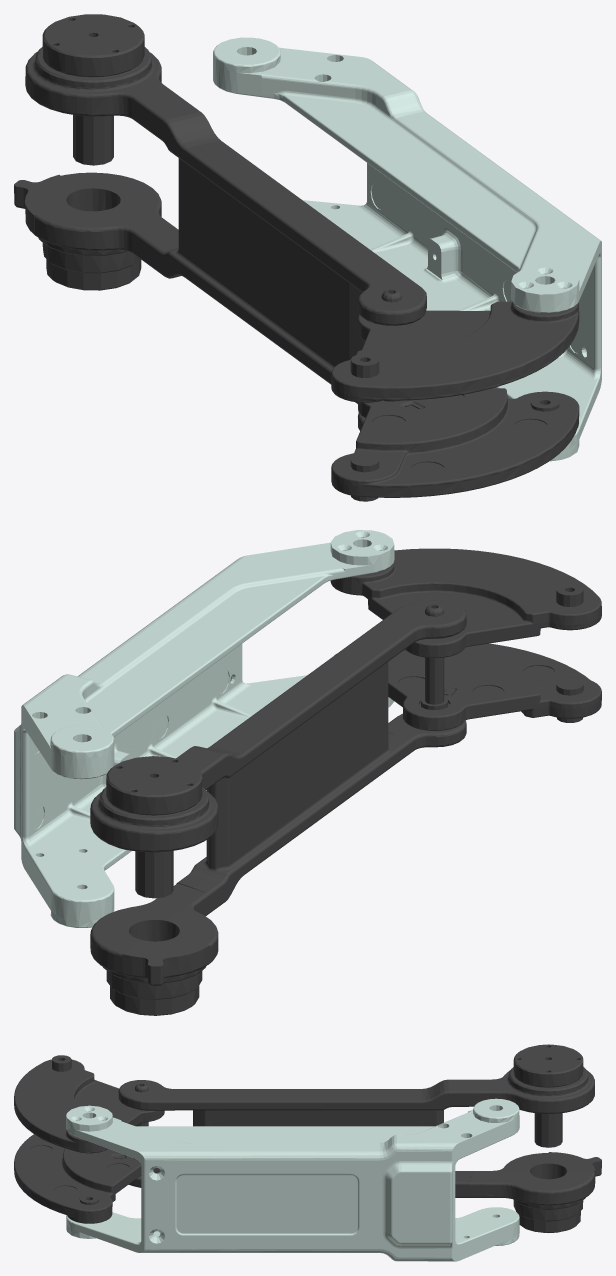
3 views of the same model, one above another, from view 1: azimuth 30°, elevation 25°; view 2: azimuth 150°, elevation 25°; view 3: azimuth 270°, elevation 25° (orthographic). The views are drawn at different scales.
Parts seen in each view (by area): view 1: J2_Link.002, J2_Link, J2_Link.003, J2_Link.001; view 2: J2_Link.002, J2_Link, J2_Link.001, J2_Link.003; view 3: J2_Link, J2_Link.002, J2_Link.003, J2_Link.001.
Boxes of the visible parts, x1,y1,x2,y2 form: J2_Link.002: (14,14,426,430); J2_Link: (213,37,601,461); J2_Link.003: (331,388,579,501); J2_Link.001: (331,301,579,402); J2_Link.002: (90,600,466,1015); J2_Link: (14,530,394,927); J2_Link.001: (330,548,601,658); J2_Link.003: (334,643,601,730); J2_Link: (66,1098,519,1261); J2_Link.002: (118,1044,601,1232); J2_Link.003: (14,1134,160,1223); J2_Link.001: (14,1055,164,1153).
Size of the model in its own units: 0.1139 by 0.2529 by 0.0765.
